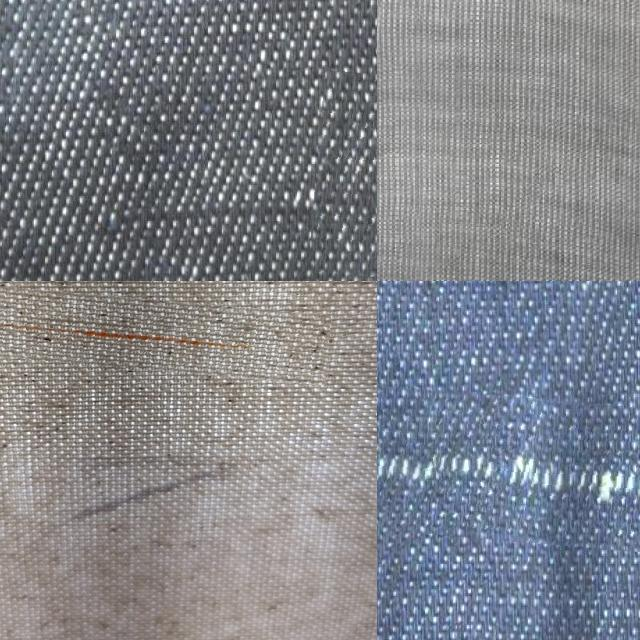stains: (377, 392, 640, 555), (0, 291, 330, 377), (312, 74, 377, 281)
